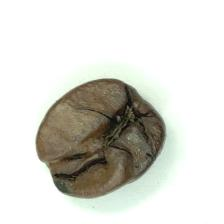NG: (45, 100, 152, 188)
